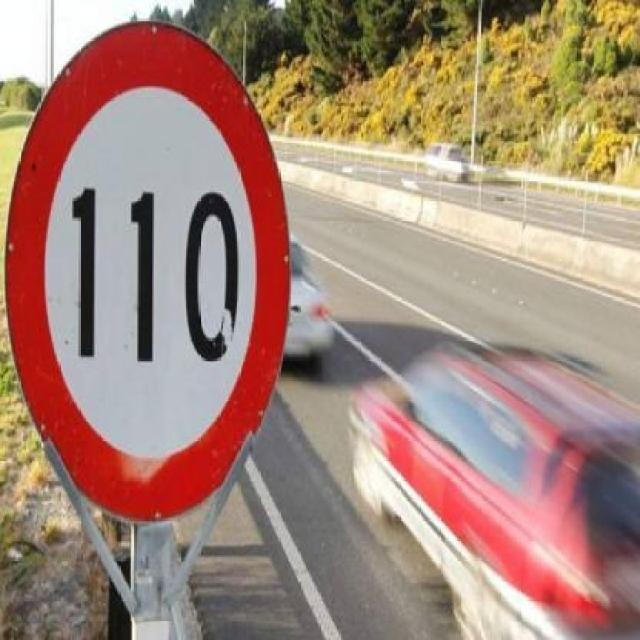forb_speed_over_100: (9, 23, 283, 515)
